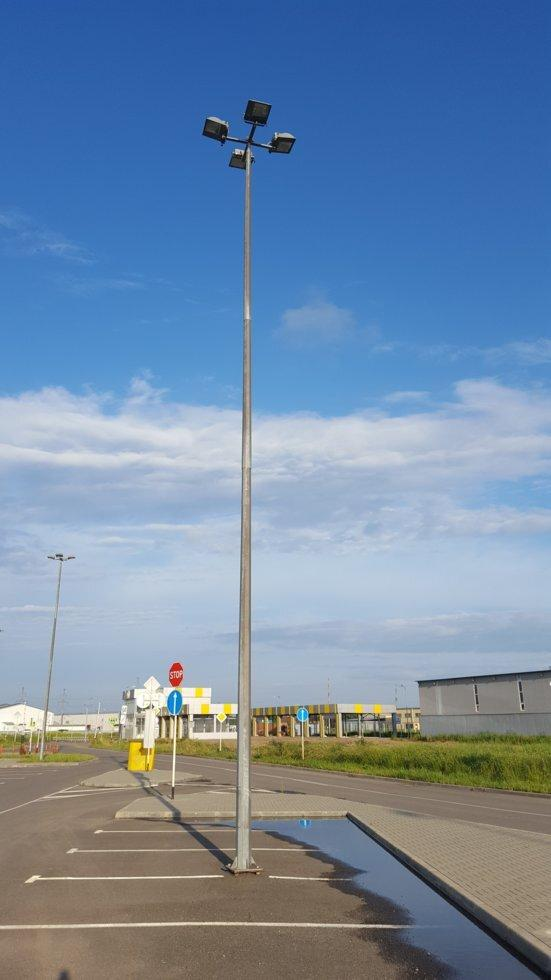Animal: (184, 78, 315, 894), (32, 532, 90, 759)
